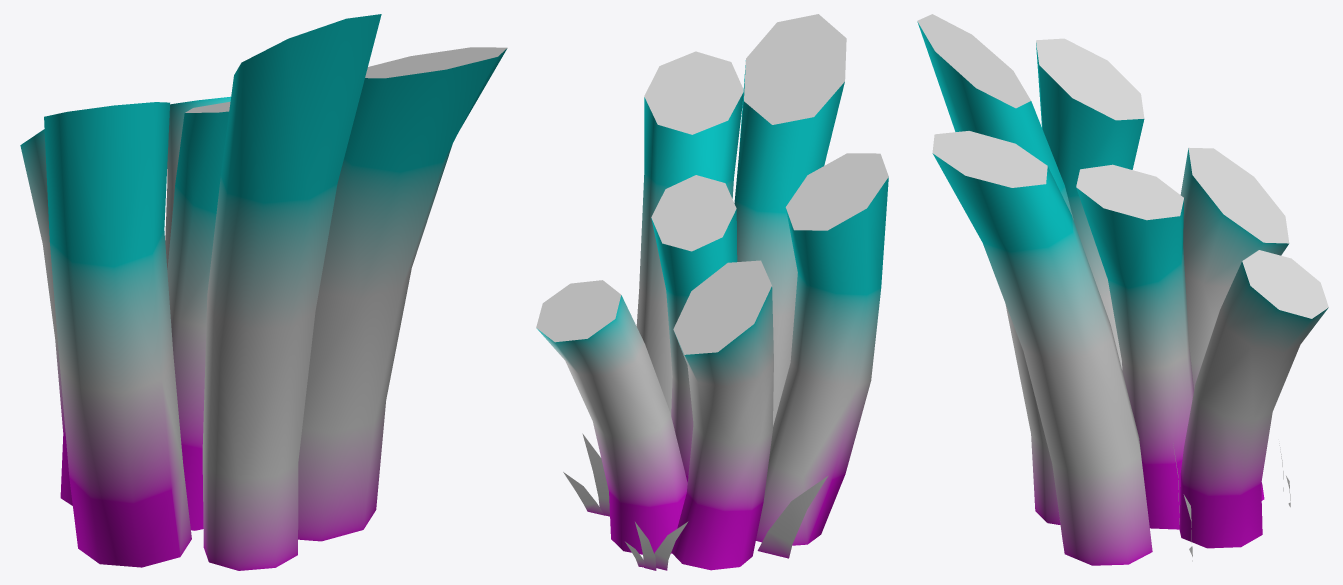
The model's file is obstacle-pipe_plants_H2.glb.
3 views of the same model, side by side, from view 1: azimuth 30°, elevation 25°; view 2: azimuth 150°, elevation 25°; view 3: azimuth 270°, elevation 25° (orthographic). The views are drawn at different scales.
Visible parts, largest first — view 1: obstacle-pipe_plants_H2; view 2: obstacle-pipe_plants_H2; view 3: obstacle-pipe_plants_H2.
Boxes of the visible parts, x1,y1,x2,y2 form: obstacle-pipe_plants_H2: (20, 14, 507, 570); obstacle-pipe_plants_H2: (536, 14, 888, 570); obstacle-pipe_plants_H2: (917, 14, 1328, 565).
Bounding box in the file's own units: 2.88 × 4.38 × 3.33.
